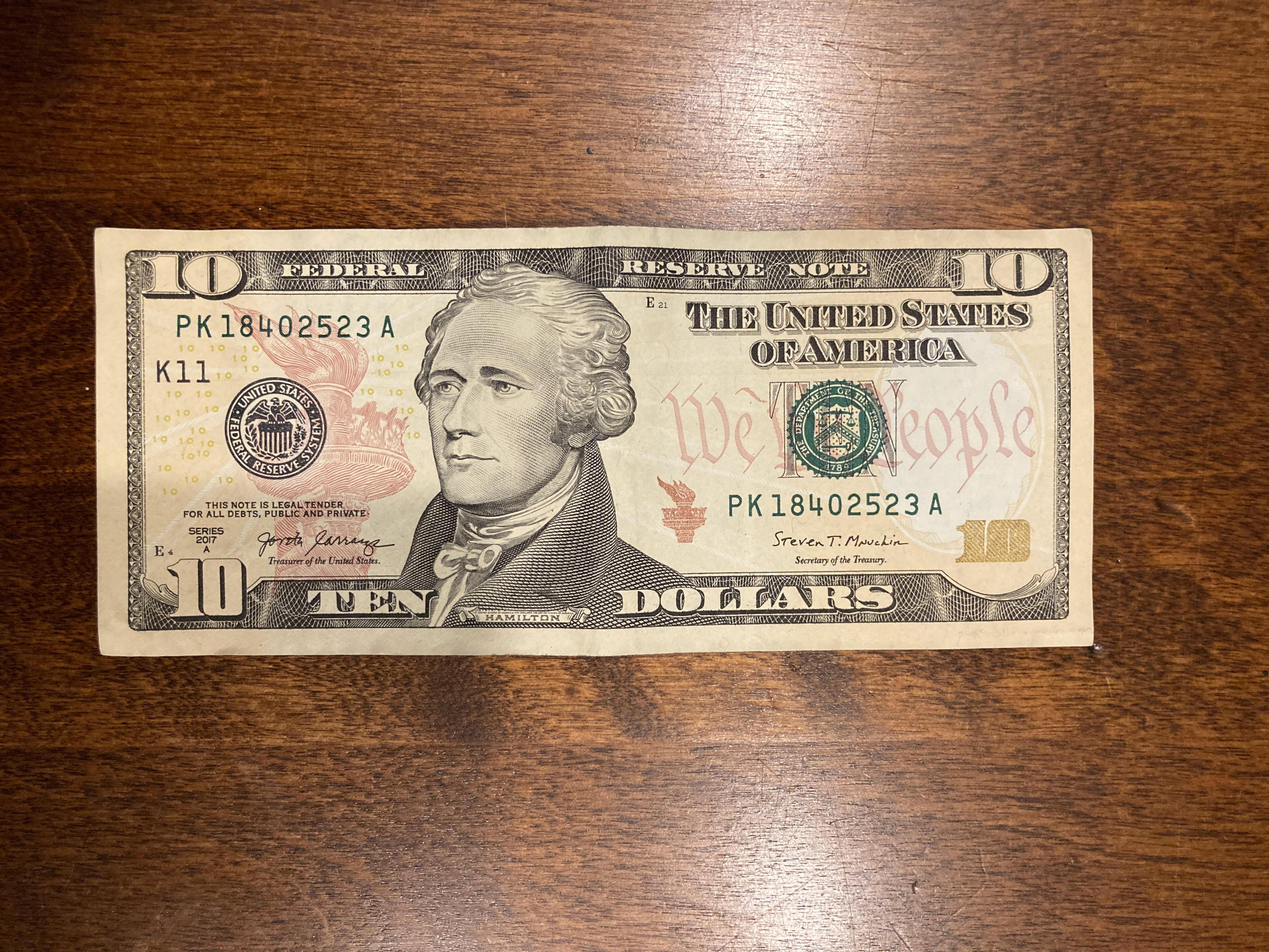ten-front: (93, 229, 1097, 658)
